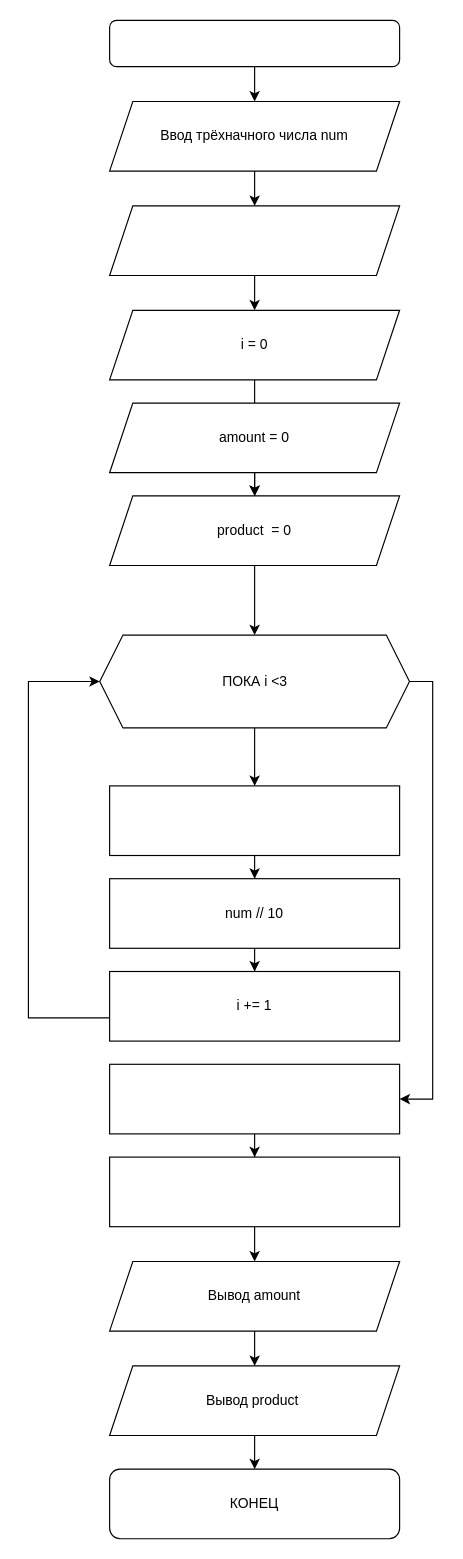
Image size: 463x1559. Some labels were removed from this diagram. The box of each missing label's shape, as (x1, y1, x2, y2) in pixels:
amount = arr[0] + arr[1] + arr[2]: (108, 1063, 400, 1134)
arr[i] = num %10: (108, 785, 400, 855)
product = arr[0] * arr[1] * arr[2]: (108, 1156, 400, 1227)
НАЧАЛО: (108, 19, 400, 67)
Создание пустого списка arr: (108, 205, 400, 276)
